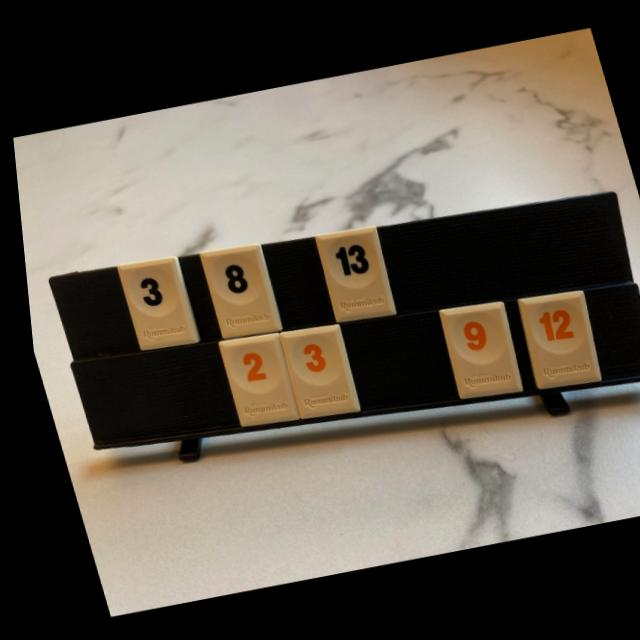black_13: (310, 226, 390, 321)
black_3: (112, 257, 193, 350)
black_8: (195, 245, 275, 338)
orange_12: (512, 290, 593, 389)
orange_2: (211, 332, 291, 425)
orange_3: (274, 323, 351, 418)
orange_9: (433, 302, 515, 399)
